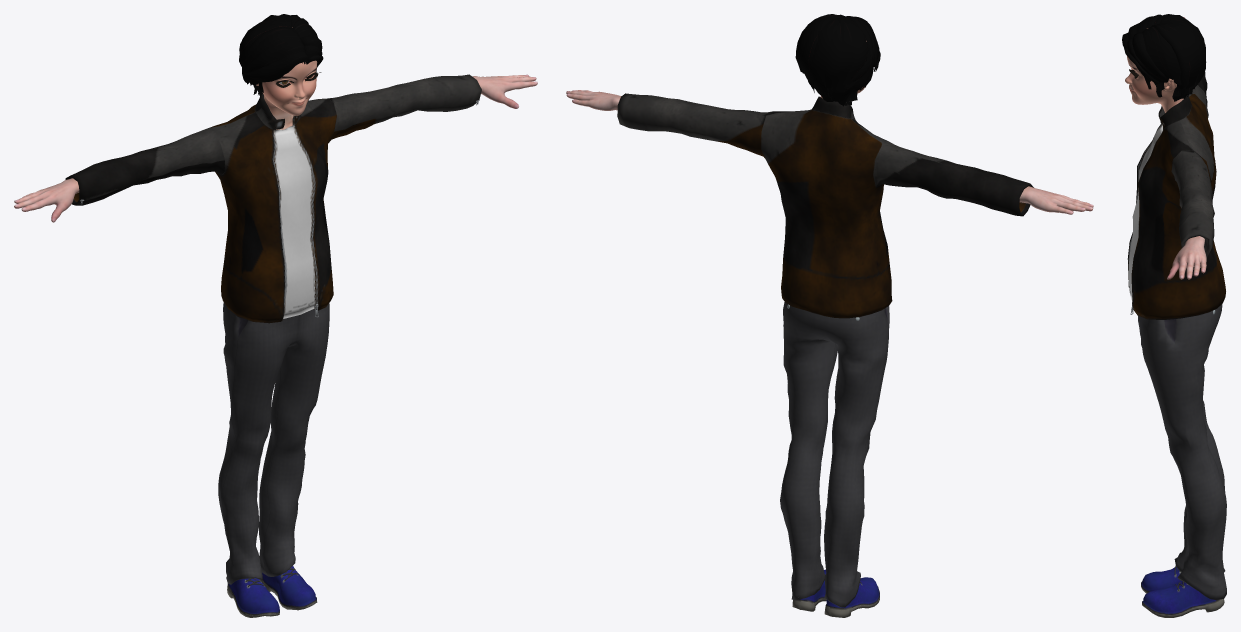
File: dawn.obj
3 views of the same model, side by side, from view 1: azimuth 30°, elevation 25°; view 2: azimuth 150°, elevation 25°; view 3: azimuth 270°, elevation 25° (orthographic).
Parts seen in each view (by area): view 1: Tops, Bottoms, Body, Hair, Shoes; view 2: Tops, Bottoms, Hair, Body, Shoes; view 3: Tops, Bottoms, Hair, Shoes, Body.
Boxes of the visible parts, box(x1,y1,x2,y2) form: Tops: box(65, 74, 481, 323); Bottoms: box(218, 302, 329, 584); Body: box(14, 27, 537, 222); Hair: box(239, 14, 323, 96); Shoes: box(227, 566, 317, 617); Tops: box(617, 93, 1033, 318); Bottoms: box(780, 302, 889, 607); Hair: box(795, 14, 880, 106); Body: box(566, 41, 1093, 214); Shoes: box(792, 569, 879, 617); Tops: box(1127, 72, 1225, 319); Bottoms: box(1138, 304, 1226, 599); Hair: box(1122, 14, 1206, 101); Shoes: box(1141, 565, 1224, 617); Body: box(1125, 17, 1206, 279).
Size of the model in its own units: 165 by 176 by 28.51.
Materials: 1 (1 with a texture image).
